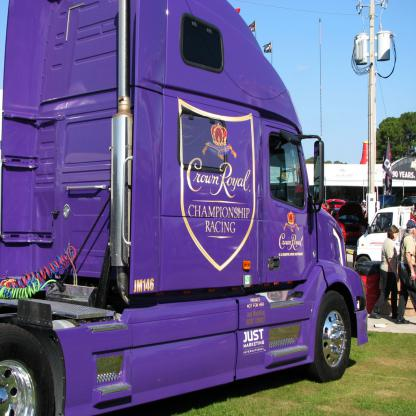Car: (331, 199, 363, 243), (400, 196, 416, 210)
Truck: (8, 12, 361, 412), (352, 204, 416, 280)
